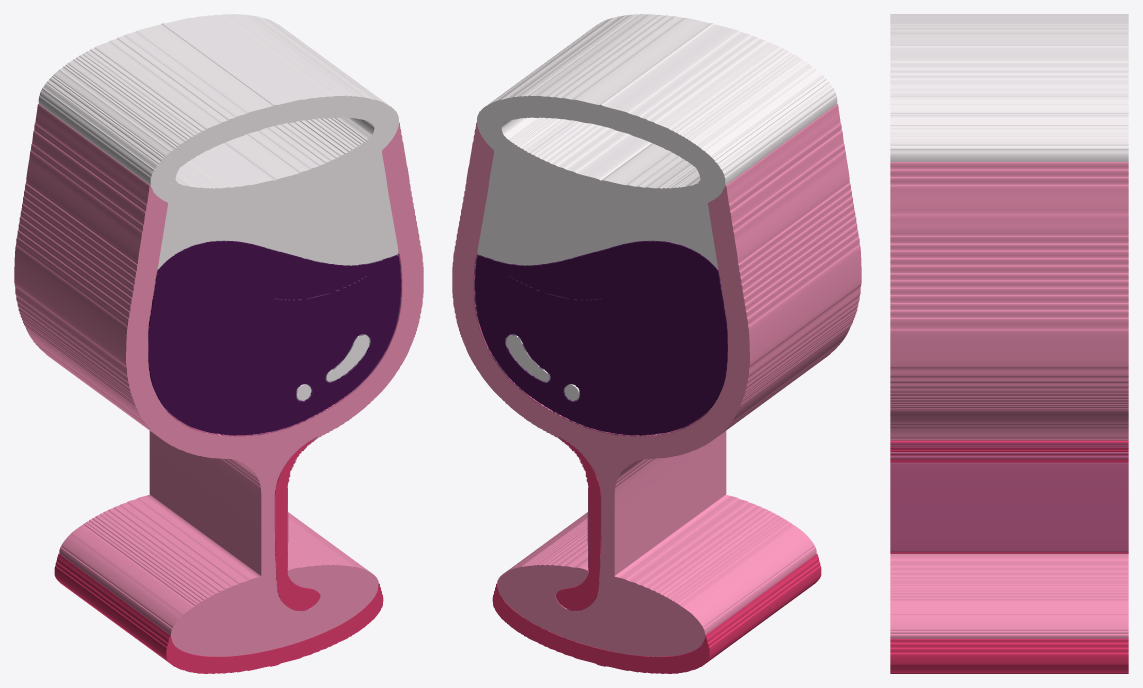
Rendered from Wine.fbx.
3 views of the same model, side by side, from view 1: azimuth 30°, elevation 25°; view 2: azimuth 150°, elevation 25°; view 3: azimuth 270°, elevation 25° (orthographic). The views are drawn at different scales.
Visible parts, largest first — view 1: path1, path3, path0, path2, path4; view 2: path1, path3, path0, path2, path4; view 3: path1, path3, path4, path2.
Part boxes in pixels (left/top/right/bottom): path1: left=14, top=103, right=423, bottom=656; path3: left=38, top=14, right=398, bottom=400; path0: left=148, top=241, right=400, bottom=435; path2: left=54, top=440, right=383, bottom=673; path4: left=148, top=253, right=402, bottom=657; path1: left=452, top=103, right=861, bottom=656; path3: left=477, top=14, right=837, bottom=400; path0: left=475, top=241, right=727, bottom=435; path2: left=492, top=440, right=821, bottom=673; path4: left=473, top=253, right=727, bottom=657; path1: left=890, top=162, right=1128, bottom=638; path3: left=890, top=14, right=1128, bottom=161; path4: left=890, top=443, right=1128, bottom=551; path2: left=890, top=440, right=1128, bottom=673.
Bounding box in the file's own units: 6.15 × 11.08 × 4.
